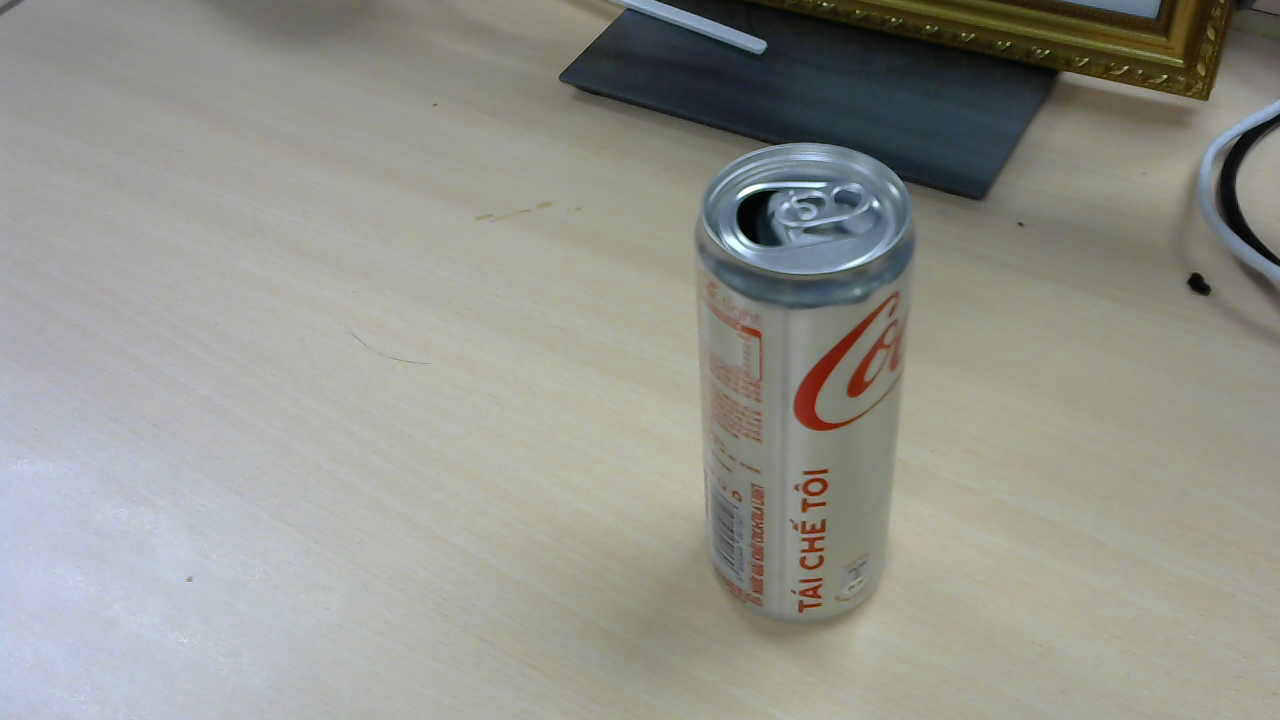Coca_Cola: (698, 144, 927, 630)
